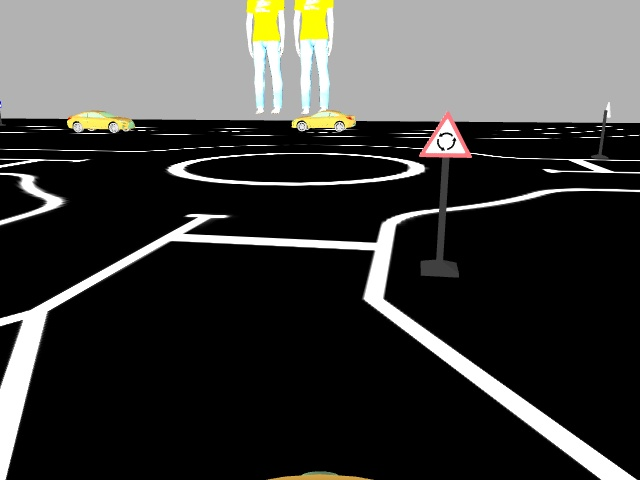Roundabout: (417, 108, 473, 157)
